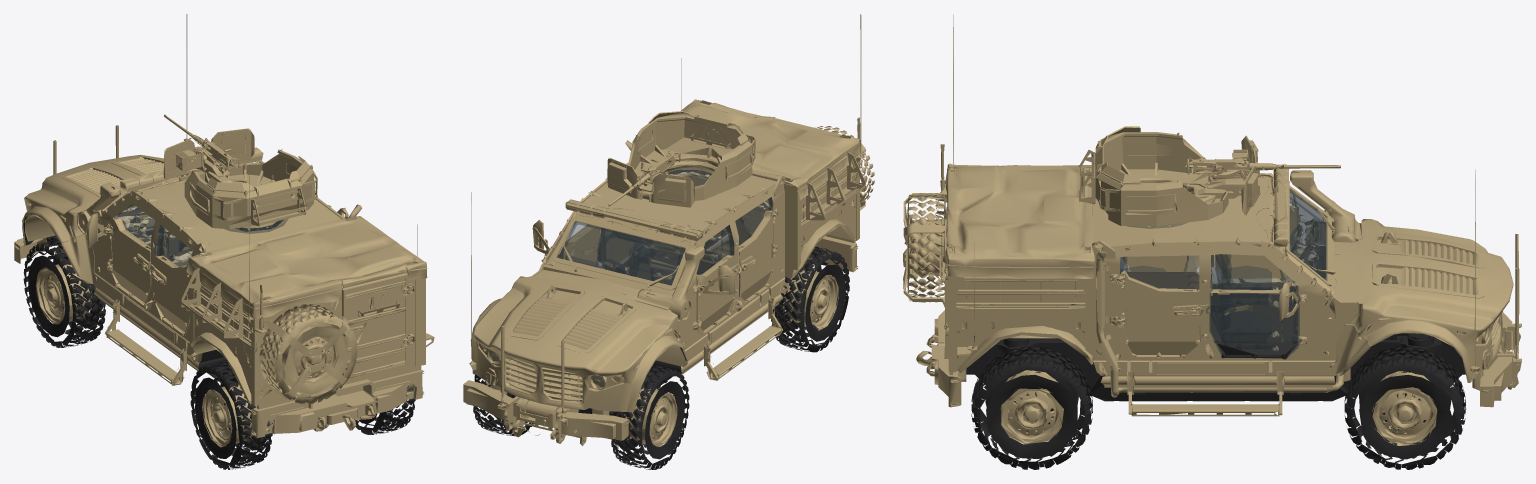
The model's file is jltv.glb.
3 views of the same model, side by side, from view 1: azimuth 30°, elevation 25°; view 2: azimuth 150°, elevation 25°; view 3: azimuth 270°, elevation 25° (orthographic). The views are drawn at different scales.
Visible parts, largest first — view 1: V_jltv; view 2: V_jltv; view 3: V_jltv.
Part boxes in pixels (left/top/right/bottom): V_jltv: left=14, top=14, right=434, bottom=469; V_jltv: left=463, top=14, right=874, bottom=469; V_jltv: left=903, top=14, right=1521, bottom=469.
Bounding box in the file's own units: 7.62 × 11.27 × 17.47.
49 materials, 46 textured.
